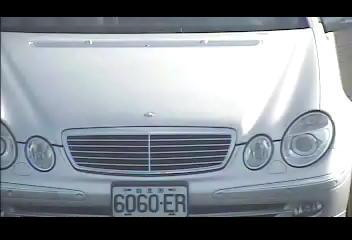plate: (110, 185, 189, 219)
